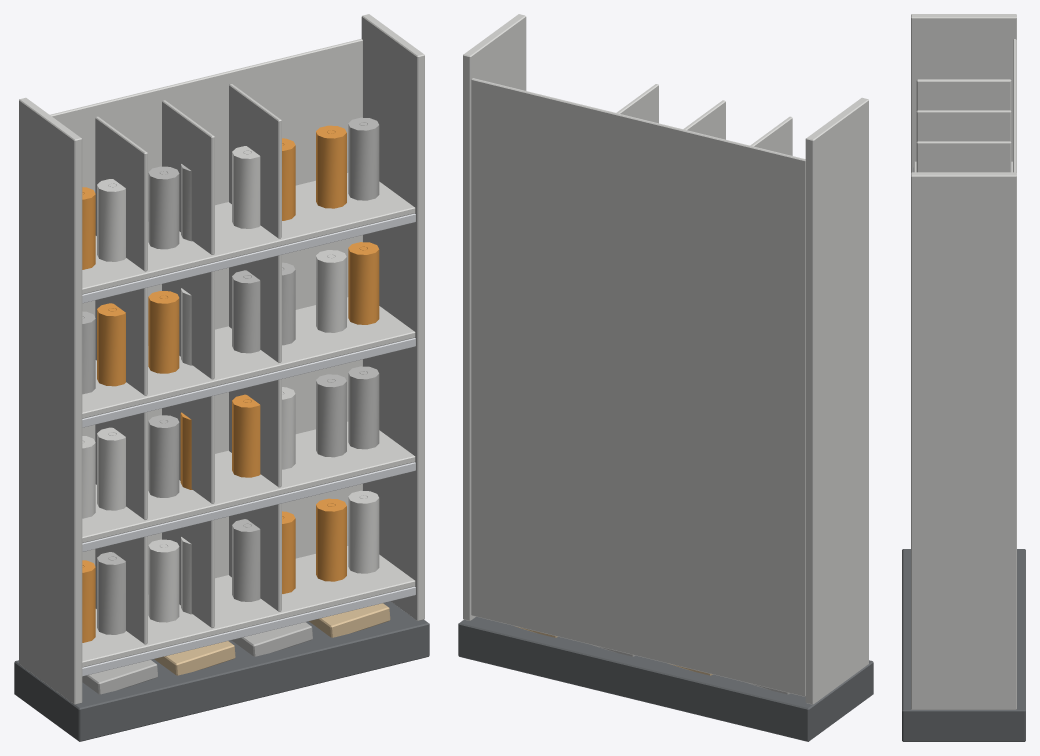
Rendered from wallpaper-roll-rack.glb.
3 views of the same model, side by side, from view 1: azimuth 30°, elevation 25°; view 2: azimuth 150°, elevation 25°; view 3: azimuth 270°, elevation 25° (orthographic). The views are drawn at different scales.
Visible parts, largest first — view 1: wallpaper-roll-rack; view 2: wallpaper-roll-rack; view 3: wallpaper-roll-rack.
Boxes of the visible parts, x1,y1,x2,y2 form: wallpaper-roll-rack: (14, 14, 429, 741); wallpaper-roll-rack: (458, 14, 873, 741); wallpaper-roll-rack: (902, 14, 1025, 741).
Size of the model in its own units: 1.3 by 2.12 by 0.4199.
